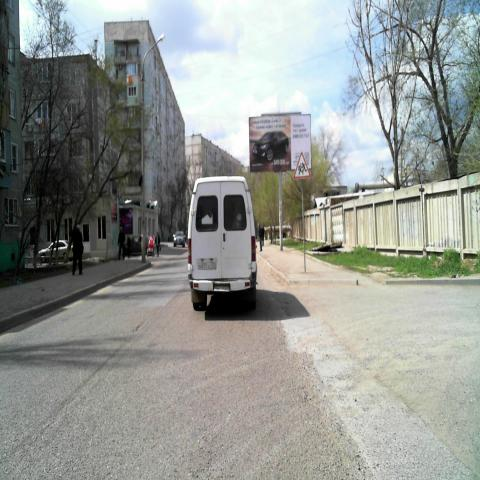1_23: (293, 151, 311, 179)
